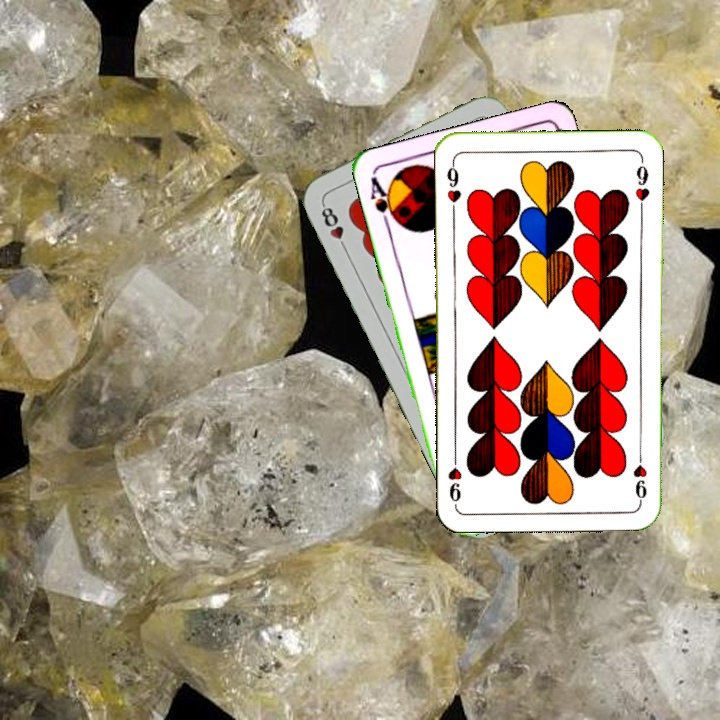H8: (317, 199, 351, 255)
H9: (443, 157, 464, 216), (630, 445, 650, 504)
SA: (366, 173, 402, 231)
